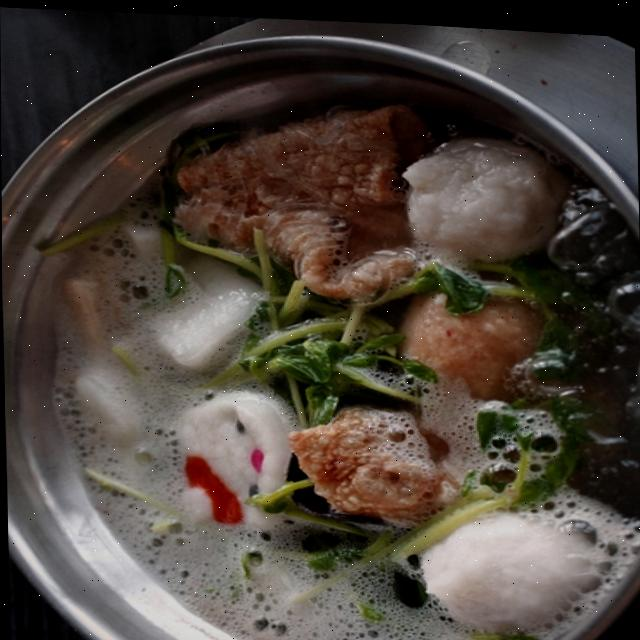汤锅炖物: (0, 13, 640, 640)
